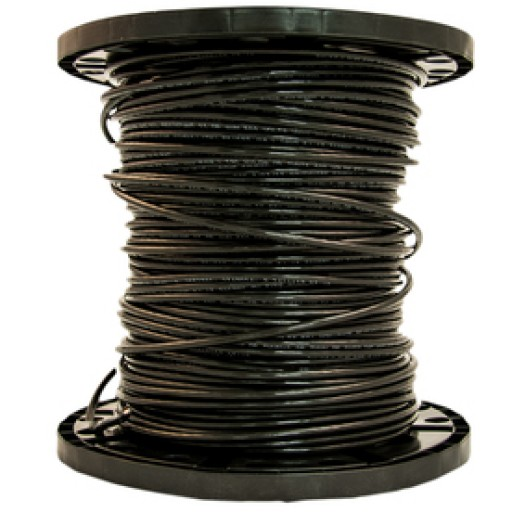Nonrec_Tangler: (46, 17, 488, 493)
